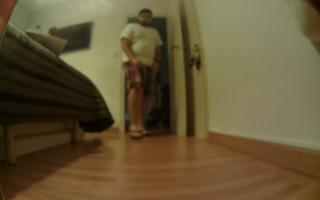person: (116, 5, 174, 143)
